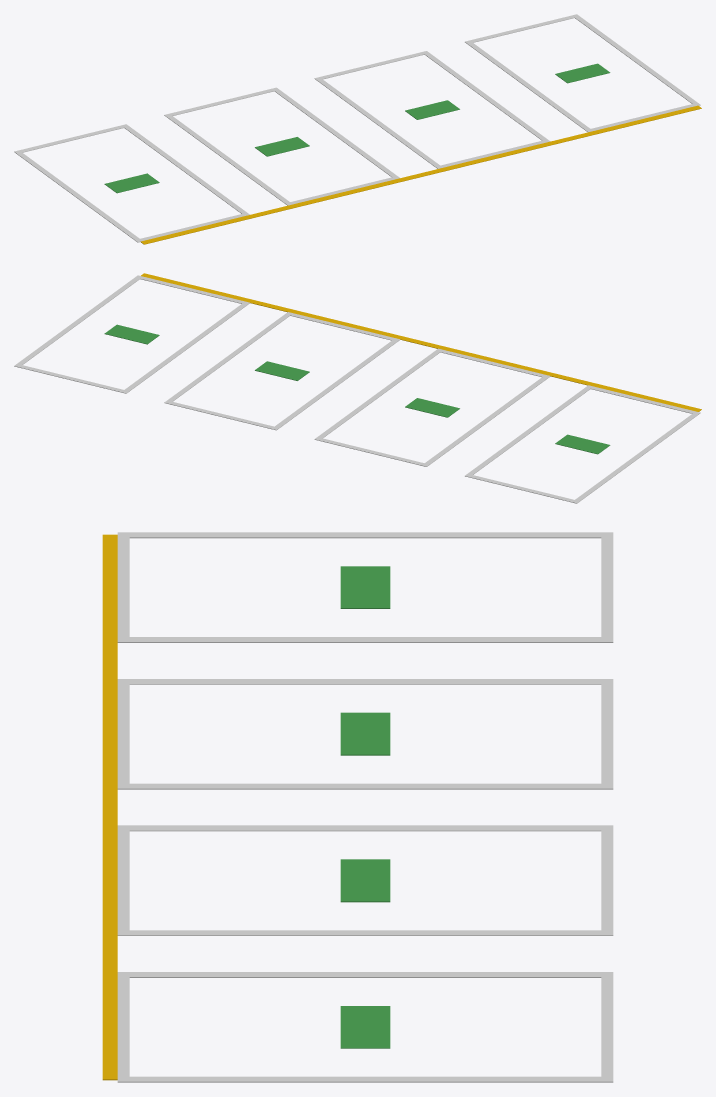
File: ch-marking.glb
3 views of the same model, one above another, from view 1: azimuth 30°, elevation 25°; view 2: azimuth 150°, elevation 25°; view 3: azimuth 270°, elevation 25° (orthographic). The views are drawn at different scales.
Parts seen in each view (by area): view 1: edge_line_yellow_south, space01_line_west, space02_line_west, space02_line_east, space03_line_east, space04_line_east, space03_line_west, space04_line_west, space01_line_east, space04_v2g_green, space01_v2g_green, space03_v2g_green (+8 smaller); view 2: edge_line_yellow_south, space01_line_west, space02_line_east, space03_line_west, space01_line_east, space04_line_west, space04_line_east, space03_line_east, space02_line_west, space01_v2g_green, space04_v2g_green, space02_v2g_green (+9 smaller); view 3: edge_line_yellow_south, space03_line_west, space01_line_west, space04_line_east, space02_line_east, space03_line_east, space01_line_east, space02_line_west, space04_line_west, space02_v2g_green, space03_v2g_green, space01_v2g_green (+9 smaller).
Boxes of the visible parts, box(x1,y1,x2,y2) form: edge_line_yellow_south: box(140, 105, 701, 244); space01_line_west: box(14, 150, 142, 242); space02_line_west: box(164, 113, 292, 205); space02_line_east: box(272, 87, 399, 179); space03_line_east: box(422, 51, 550, 142); space04_line_east: box(572, 14, 700, 105); space03_line_west: box(314, 77, 442, 168); space04_line_west: box(465, 40, 591, 132); space01_line_east: box(124, 124, 249, 215); space04_v2g_green: box(555, 63, 610, 83); space01_v2g_green: box(104, 173, 159, 193); space03_v2g_green: box(405, 100, 459, 119); edge_line_yellow_south: box(141, 273, 701, 411); space01_line_west: box(572, 412, 700, 503); space02_line_east: box(314, 348, 442, 440); space03_line_west: box(272, 338, 400, 430); space01_line_east: box(465, 385, 593, 476); space04_line_west: box(122, 302, 249, 393); space04_line_east: box(14, 275, 142, 366); space03_line_east: box(164, 312, 292, 403); space02_line_west: box(422, 375, 550, 466); space01_v2g_green: box(555, 434, 610, 454); space04_v2g_green: box(104, 324, 159, 344); space02_v2g_green: box(405, 398, 459, 417); edge_line_yellow_south: box(102, 534, 117, 1080); space03_line_west: box(117, 825, 613, 831); space01_line_west: box(117, 532, 613, 538); space04_line_east: box(117, 1076, 613, 1082); space02_line_east: box(117, 783, 613, 789); space03_line_east: box(117, 930, 613, 935); space01_line_east: box(117, 637, 613, 642); space02_line_west: box(117, 679, 613, 684); space04_line_west: box(117, 972, 613, 977); space02_v2g_green: box(340, 712, 390, 755); space03_v2g_green: box(340, 859, 390, 902); space01_v2g_green: box(340, 566, 390, 608).
Size of the model in its own units: 13.12 by 0.01 by 5.15.
